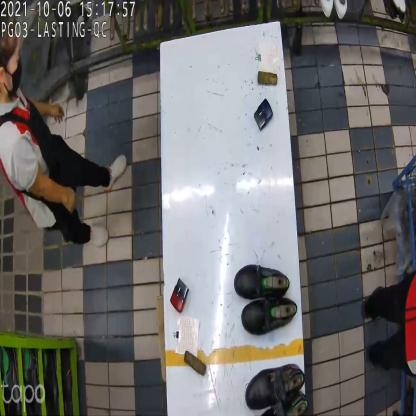shoes: (230, 261, 298, 336), (247, 356, 307, 416)
stamp: (254, 97, 274, 131), (171, 280, 191, 314)
